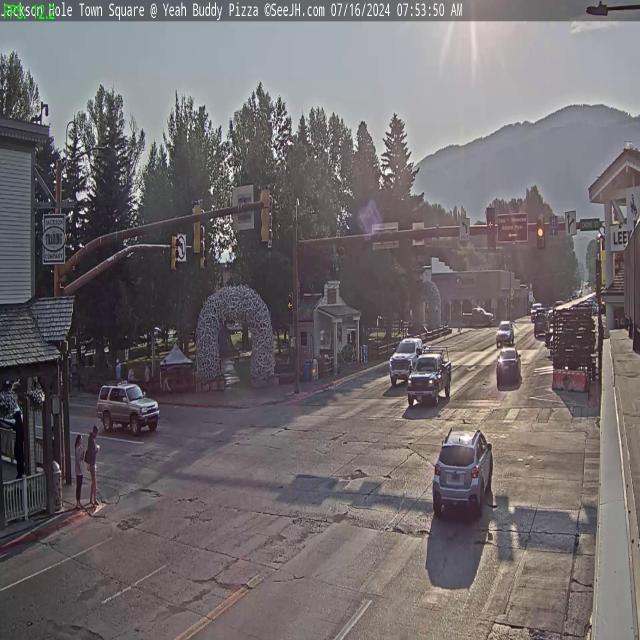person: (84, 423, 99, 507), (73, 428, 85, 509)
pickup: (407, 353, 455, 408), (390, 336, 426, 382)
sedan: (496, 346, 522, 386)
suv: (432, 424, 497, 518), (96, 381, 160, 436), (496, 318, 514, 346)
traffic light: (190, 200, 203, 256), (260, 184, 272, 244), (486, 206, 497, 251), (170, 234, 179, 273), (536, 215, 544, 248)
